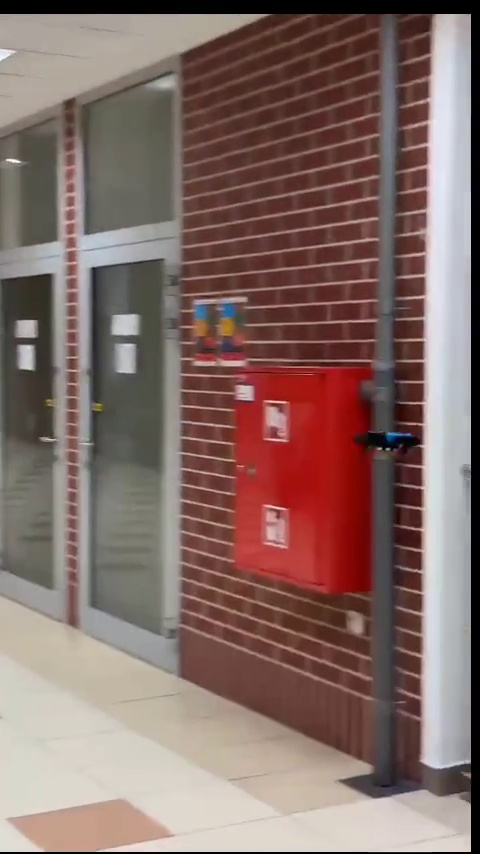drone: (363, 430, 427, 458)
